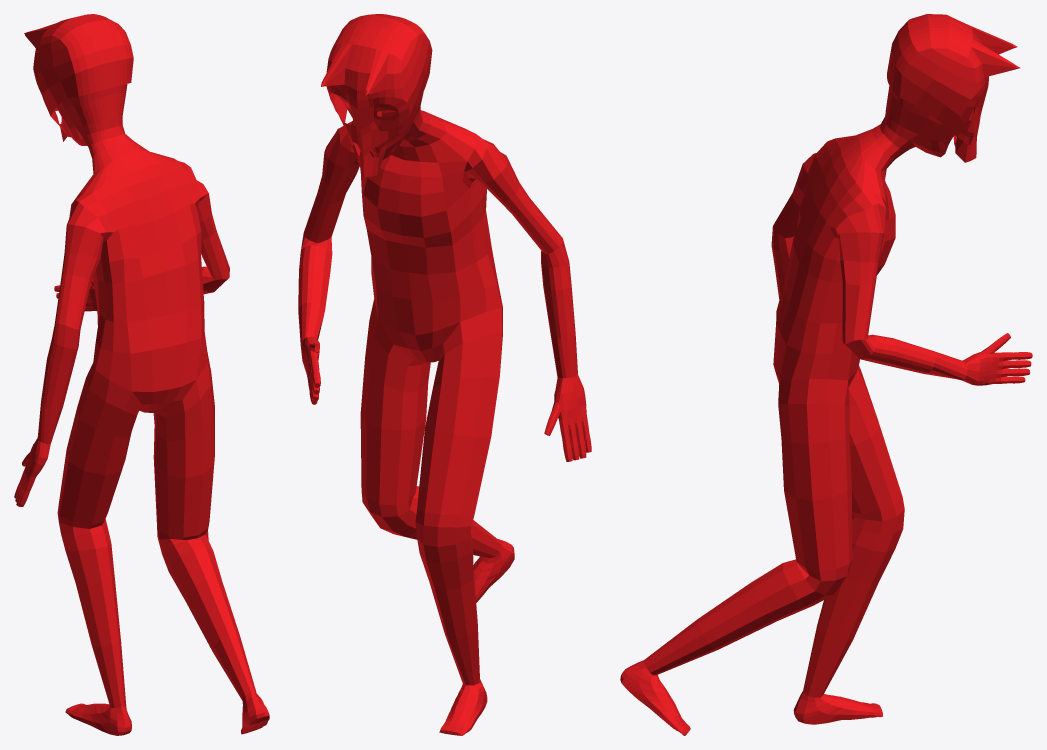
File: marchaE_000046.obj
The picture shows the model from 3 angles, left to right: view 1: azimuth 30°, elevation 25°; view 2: azimuth 150°, elevation 25°; view 3: azimuth 270°, elevation 25°; orthographic projection. The views are drawn at different scales.
Visible parts, largest first — view 1: Plane.002_Plane.001; view 2: Plane.002_Plane.001; view 3: Plane.002_Plane.001.
Part boxes in pixels (box(x1,y1,x2,y2)): Plane.002_Plane.001: box(14, 14, 269, 735); Plane.002_Plane.001: box(298, 14, 591, 735); Plane.002_Plane.001: box(620, 14, 1032, 735).
Bounding box in the file's own units: 2.44 × 6.61 × 3.46.
